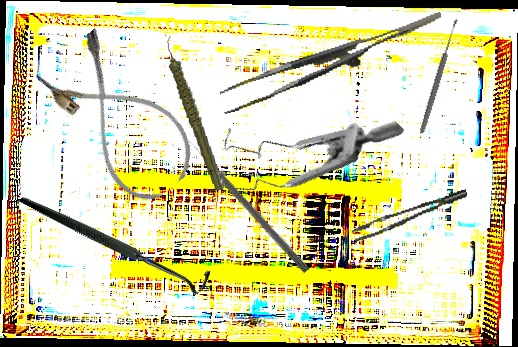Cannula: (32, 24, 208, 213)
Handpiece: (163, 32, 227, 194)
Hook Surgical: (18, 133, 217, 347)
Pusher: (183, 134, 312, 274)
Speculum: (197, 41, 406, 250)
Surgical Spoon: (418, 18, 460, 135)
Tissue Forceps: (213, 11, 452, 115), (348, 189, 472, 242)
